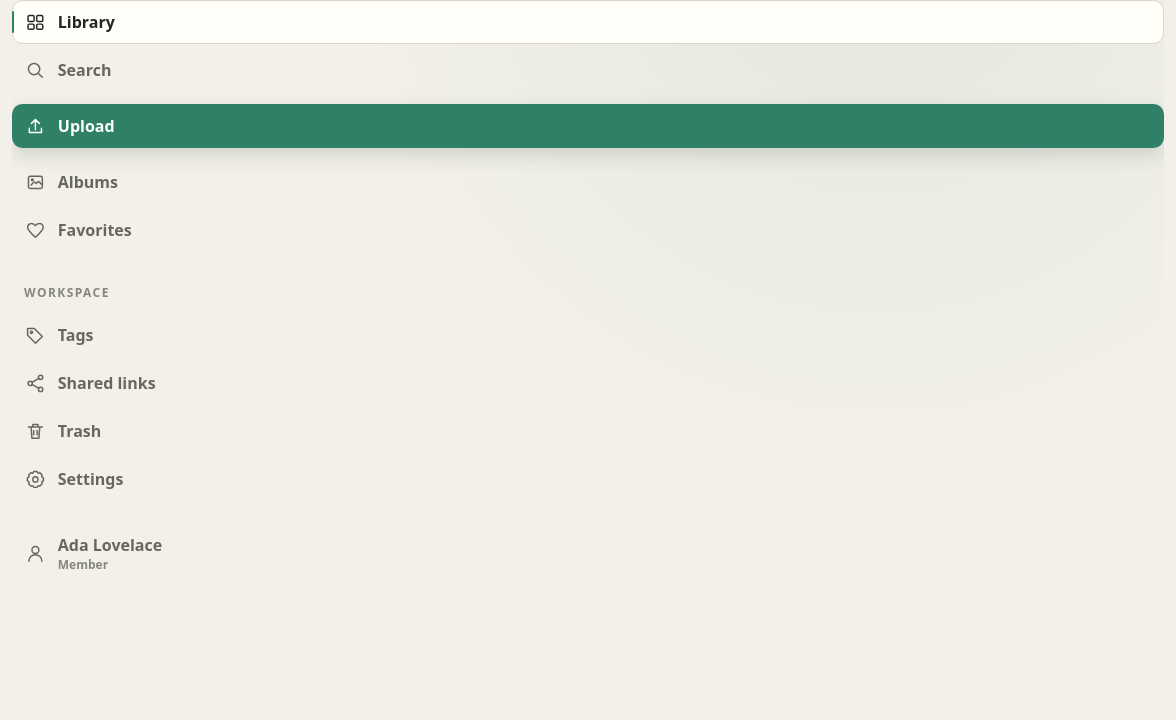
Scenario: primary navigation › returns focus to the account button when the menu is dismissed
Click the button "Ada Lovelace Member".
click(110, 545)  # box x1=12 y1=525 x2=1164 y2=582
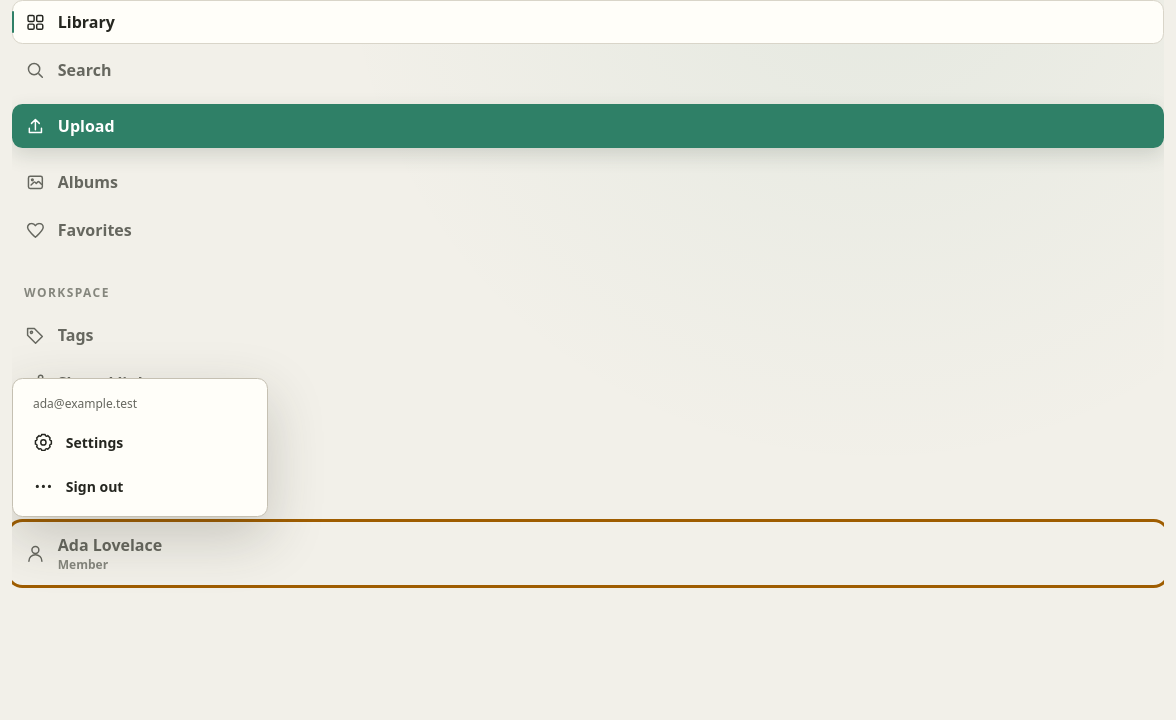
Press Tab
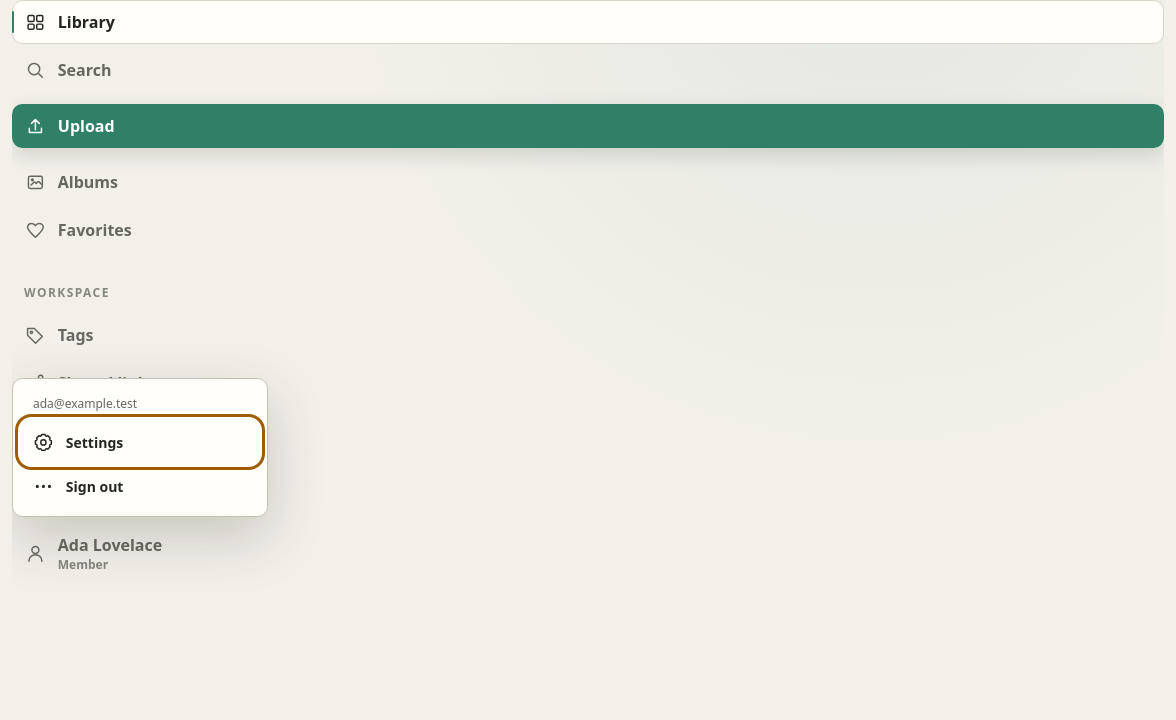
Press Escape
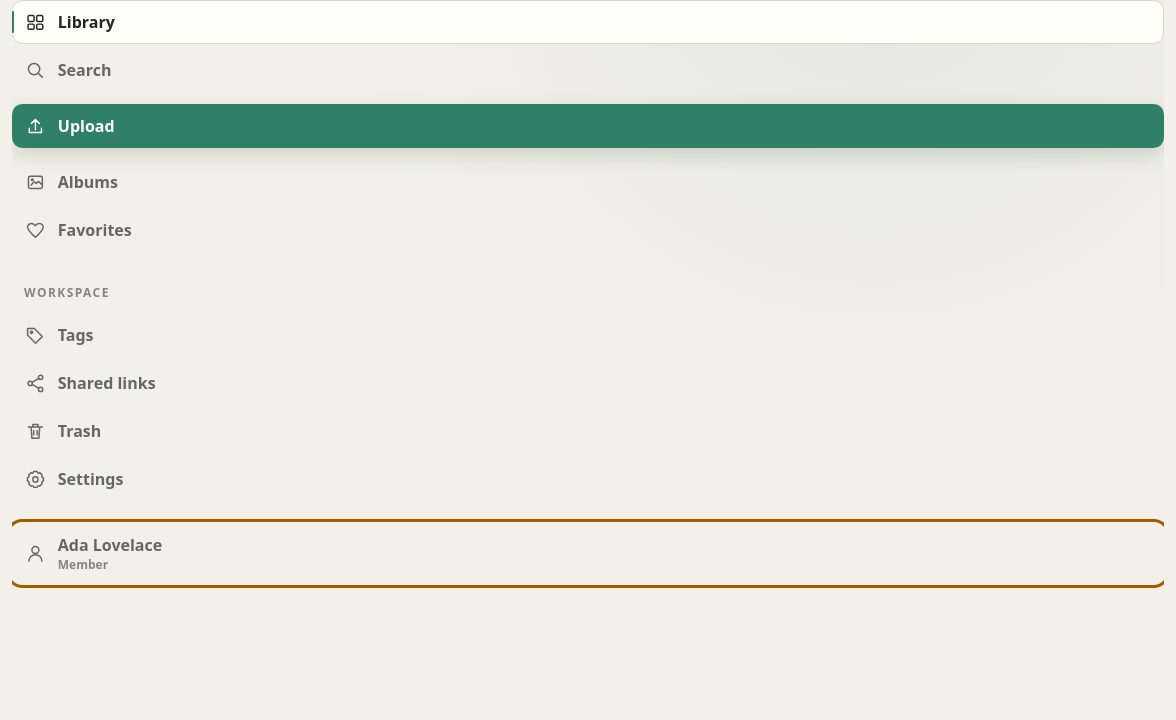
Check: the button "Ada Lovelace Member" is collapsed, box x1=12 y1=525 x2=1164 y2=582
